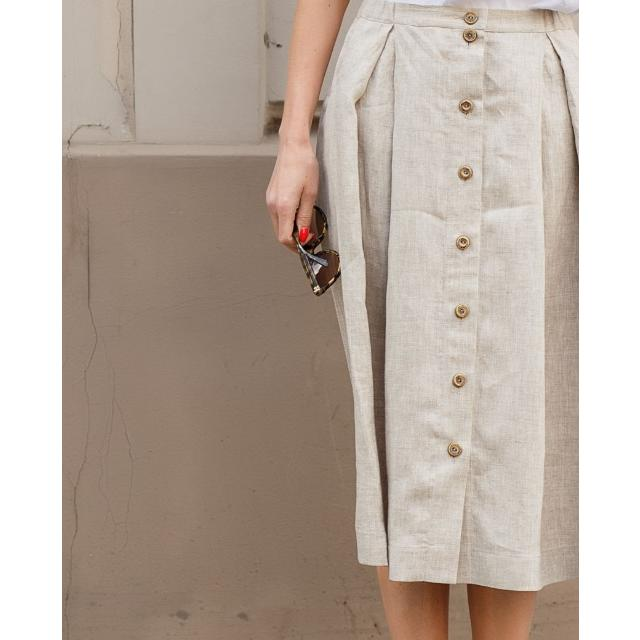linen: (357, 1, 579, 572)
